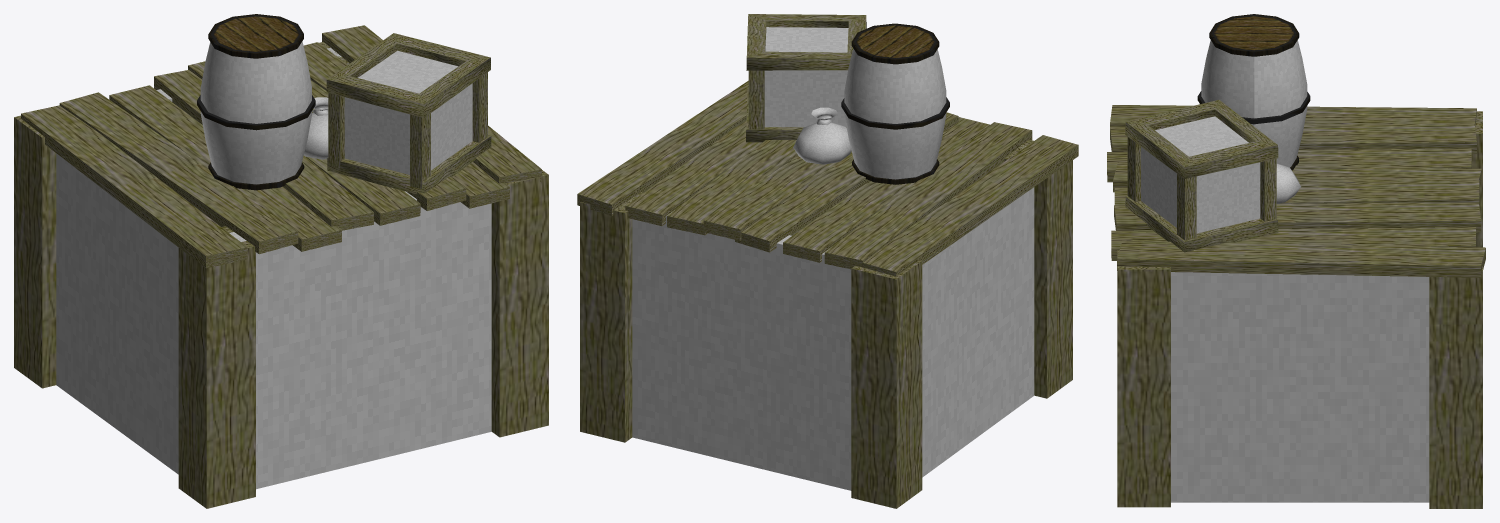
File: bigstorage.obj
3 renders of one model, left to right at view 1: azimuth 30°, elevation 25°; view 2: azimuth 150°, elevation 25°; view 3: azimuth 270°, elevation 25°, orthographic. The views are drawn at different scales.
Visible parts, largest first — view 1: Box02, Duplicate03, Duplicate08, Duplicate05, Duplicate12, Cylinder02, Duplicate13, Duplicate06, Box01, Duplicate01, Duplicate11, Duplicate09 (+3 smaller); view 2: Duplicate01, Duplicate03, Duplicate06, Duplicate07, Duplicate12, Cylinder02, Duplicate13, Duplicate05, Box01, Duplicate11, Duplicate09, Duplicate10 (+4 smaller); view 3: Duplicate02, Duplicate01, Duplicate08, Duplicate07, Duplicate12, Box01, Cylinder02, Duplicate09, Duplicate13, Duplicate11, Duplicate10, Duplicate03 (+3 smaller).
Boxes of the visible parts, box(x1,y1,x2,y2) form: Box02: box(229, 92, 491, 489); Duplicate03: box(56, 72, 487, 474); Duplicate08: box(326, 33, 548, 437); Duplicate05: box(178, 226, 255, 508); Duplicate12: box(59, 14, 303, 254); Cylinder02: box(200, 41, 311, 184); Duplicate13: box(21, 105, 304, 268); Duplicate06: box(14, 115, 56, 388); Box01: box(344, 50, 472, 174); Duplicate01: box(156, 25, 541, 210); Duplicate11: box(109, 85, 341, 251); Duplicate09: box(188, 61, 491, 225); Duplicate01: box(577, 80, 851, 490); Duplicate03: box(922, 187, 1034, 477); Duplicate06: box(851, 260, 922, 508); Duplicate07: box(580, 192, 643, 442); Duplicate12: box(824, 23, 1032, 269); Cylinder02: box(844, 49, 946, 179); Duplicate13: box(852, 135, 1078, 276); Duplicate05: box(1004, 139, 1072, 398); Box01: box(764, 27, 848, 127); Duplicate11: box(783, 117, 990, 262); Duplicate09: box(703, 85, 851, 240); Duplicate10: box(735, 112, 958, 252); Duplicate02: box(1171, 158, 1429, 502); Duplicate01: box(1111, 137, 1485, 277); Duplicate08: box(1117, 100, 1278, 507); Duplicate07: box(1429, 266, 1482, 508); Duplicate12: box(1110, 14, 1476, 153); Box01: box(1141, 116, 1260, 233); Cylinder02: box(1201, 40, 1307, 167); Duplicate09: box(1114, 180, 1479, 252); Duplicate13: box(1110, 105, 1476, 170); Duplicate11: box(1107, 148, 1471, 182); Duplicate10: box(1113, 162, 1481, 192); Duplicate03: box(1177, 174, 1196, 240).
Bounding box in the file's own units: 39.46 × 41.87 × 38.65.
